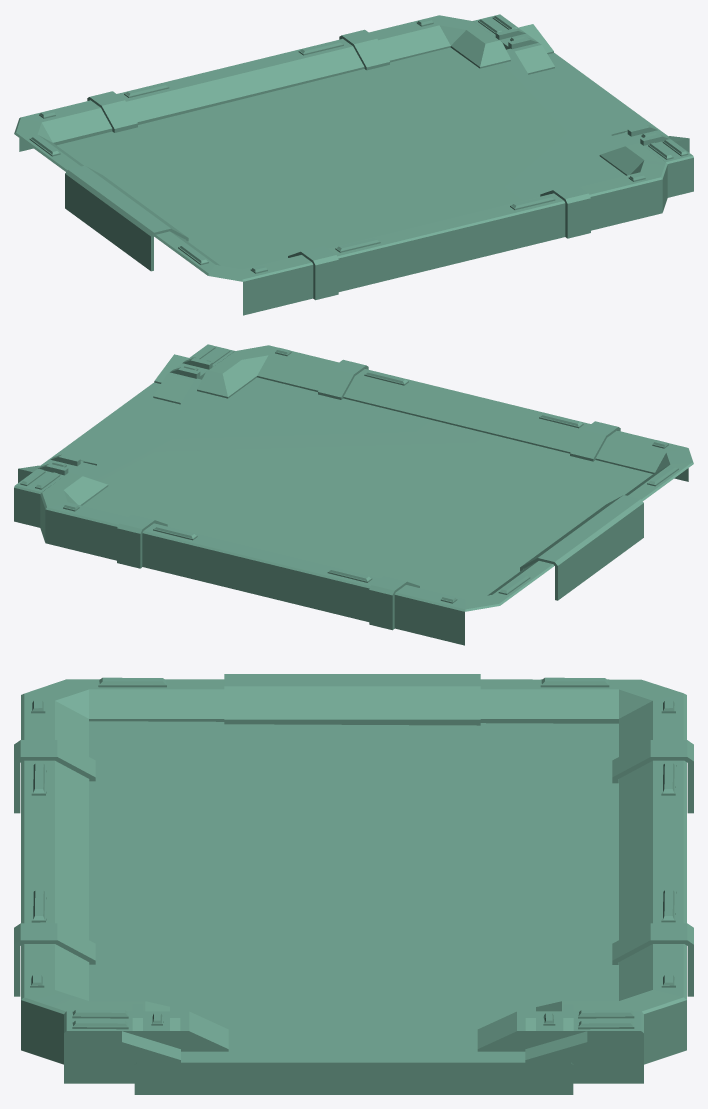
The model's file is TrashPlatform.fbx.
The picture shows the model from 3 angles, top to bottom: view 1: azimuth 30°, elevation 25°; view 2: azimuth 150°, elevation 25°; view 3: azimuth 270°, elevation 25°; orthographic projection. The views are drawn at different scales.
Visible parts, largest first — view 1: dop_V5; view 2: dop_V5; view 3: dop_V5.
Boxes of the visible parts, x1,y1,x2,y2 form: dop_V5: (14, 14, 693, 315); dop_V5: (14, 344, 693, 645); dop_V5: (14, 674, 693, 1094).
Size of the model in its own units: 2417 by 184 by 1894.
